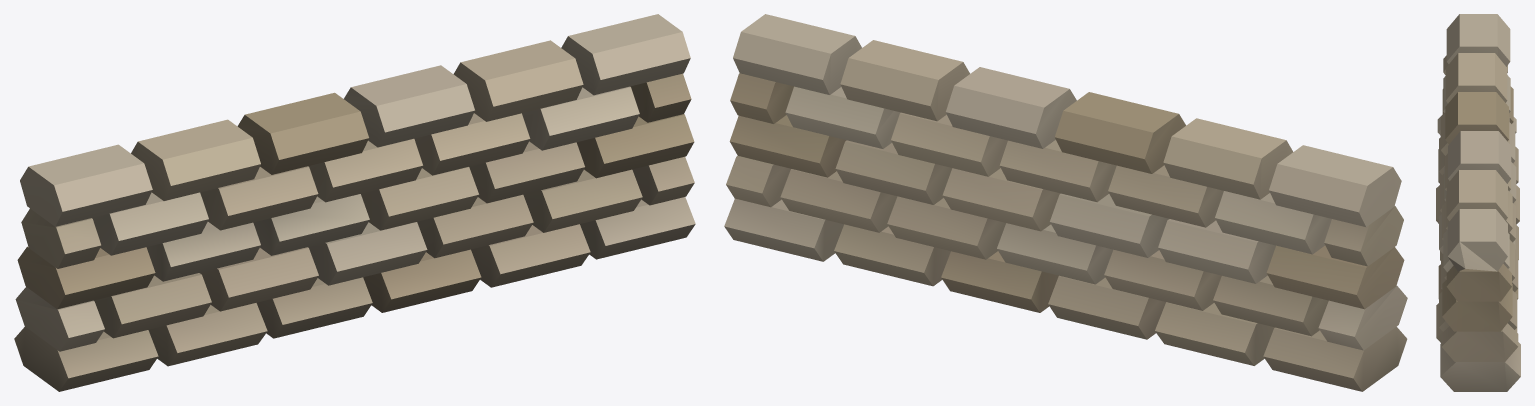
Rendered from sandbags.lod1.glb.
The picture shows the model from 3 angles, left to right: view 1: azimuth 30°, elevation 25°; view 2: azimuth 150°, elevation 25°; view 3: azimuth 270°, elevation 25°; orthographic projection. The views are drawn at different scales.
Bounding box in the file's own units: 3.94 × 1.2 × 0.6122.
